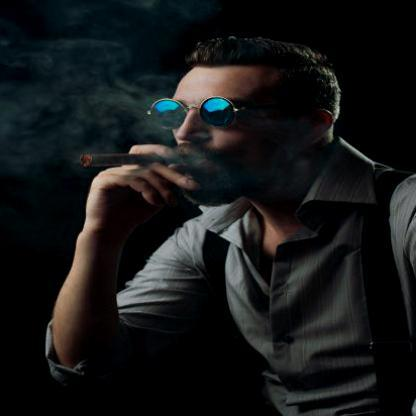cigarette: (79, 152, 159, 168)
person: (144, 35, 415, 415)
smoke: (0, 22, 151, 146)
